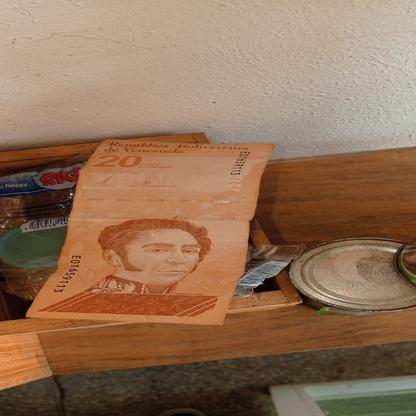twenty-front-vef: (25, 140, 274, 324)
